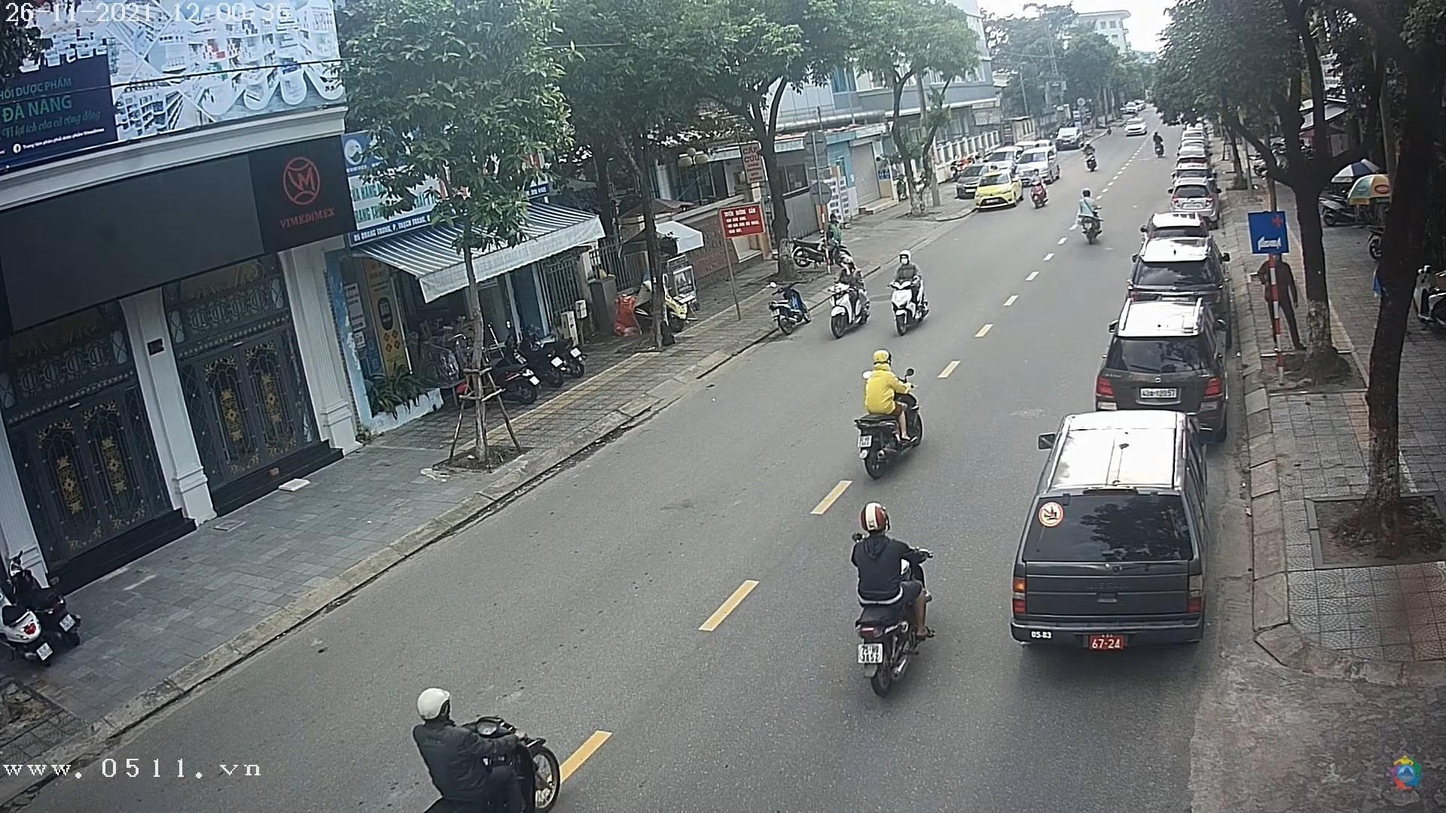car: (1015, 412, 1208, 650), (1095, 303, 1227, 443), (1129, 239, 1228, 300), (1169, 184, 1219, 215), (1057, 125, 1089, 148)
motorbike: (854, 584, 938, 696), (855, 398, 926, 481), (827, 279, 873, 340), (892, 285, 933, 334), (1078, 212, 1107, 251)
